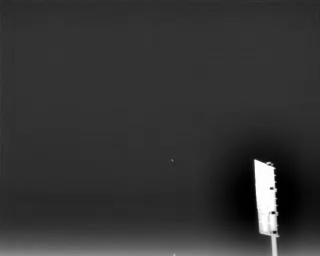BIRD: (169, 156, 176, 164)
